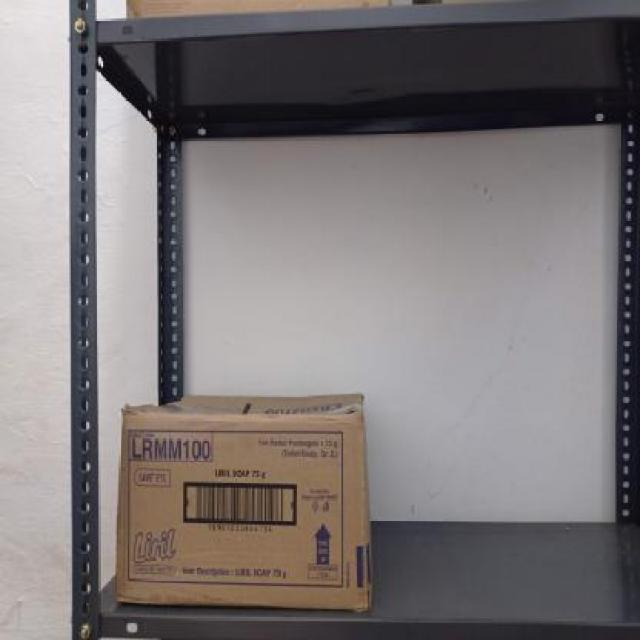box: (119, 414, 364, 602)
